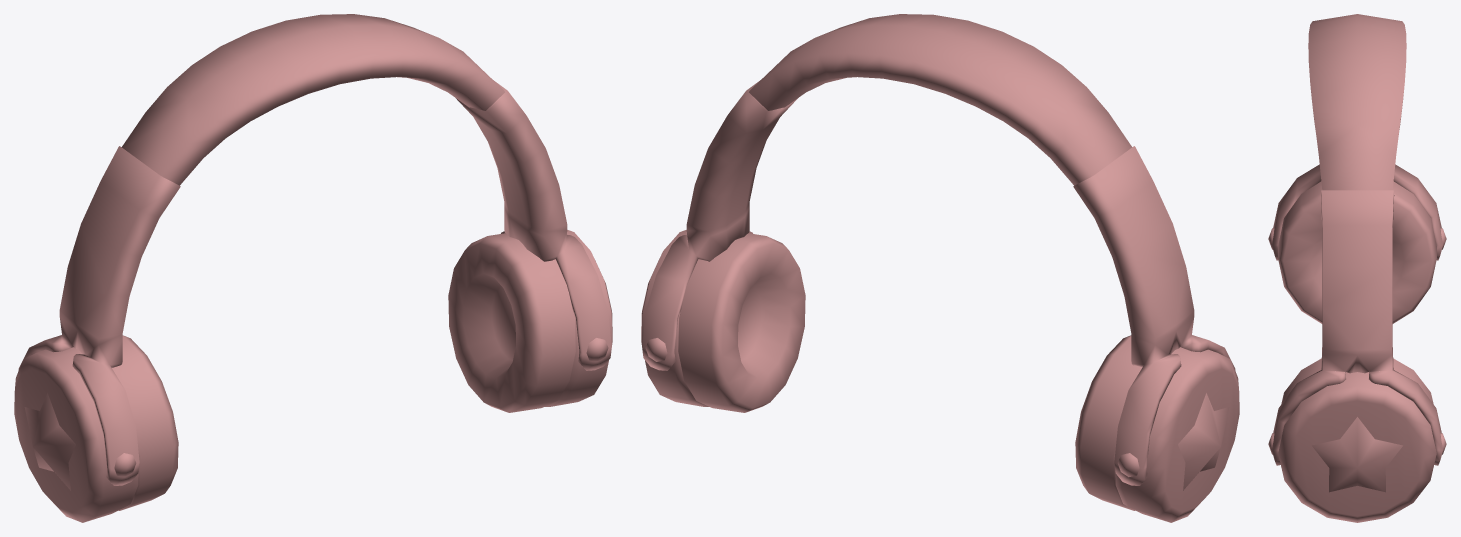
Rendered from headphone_000.fbx.
3 renders of one model, left to right at view 1: azimuth 30°, elevation 25°; view 2: azimuth 150°, elevation 25°; view 3: azimuth 270°, elevation 25°, orthographic. The views are drawn at different scales.
Visible parts, largest first — view 1: headphone_000_m; view 2: headphone_000_m; view 3: headphone_000_m.
Boxes of the visible parts, bbox=[...] form: headphone_000_m: bbox=[14, 14, 612, 522]; headphone_000_m: bbox=[641, 14, 1239, 522]; headphone_000_m: bbox=[1268, 14, 1446, 522].
Size of the model in its own units: 17.34 by 12.52 by 5.36.
